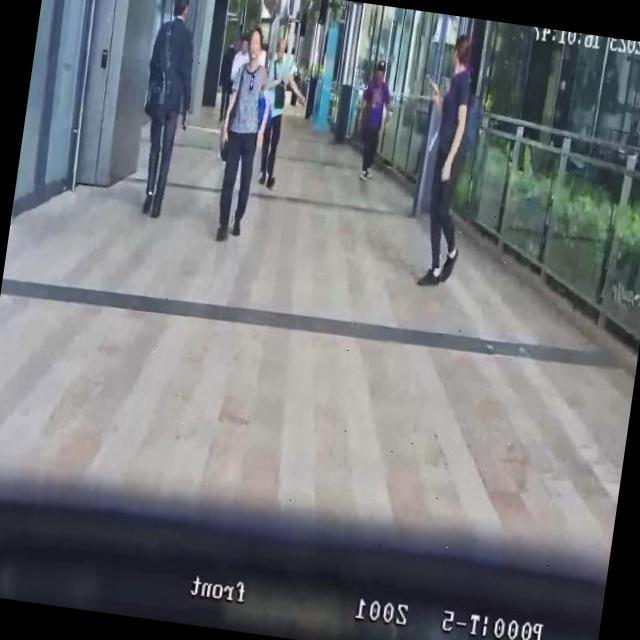person: (402, 31, 488, 292), (127, 0, 205, 222), (207, 23, 277, 246), (250, 35, 312, 194), (351, 56, 399, 182), (223, 31, 252, 122), (214, 38, 238, 124), (228, 32, 252, 94)
